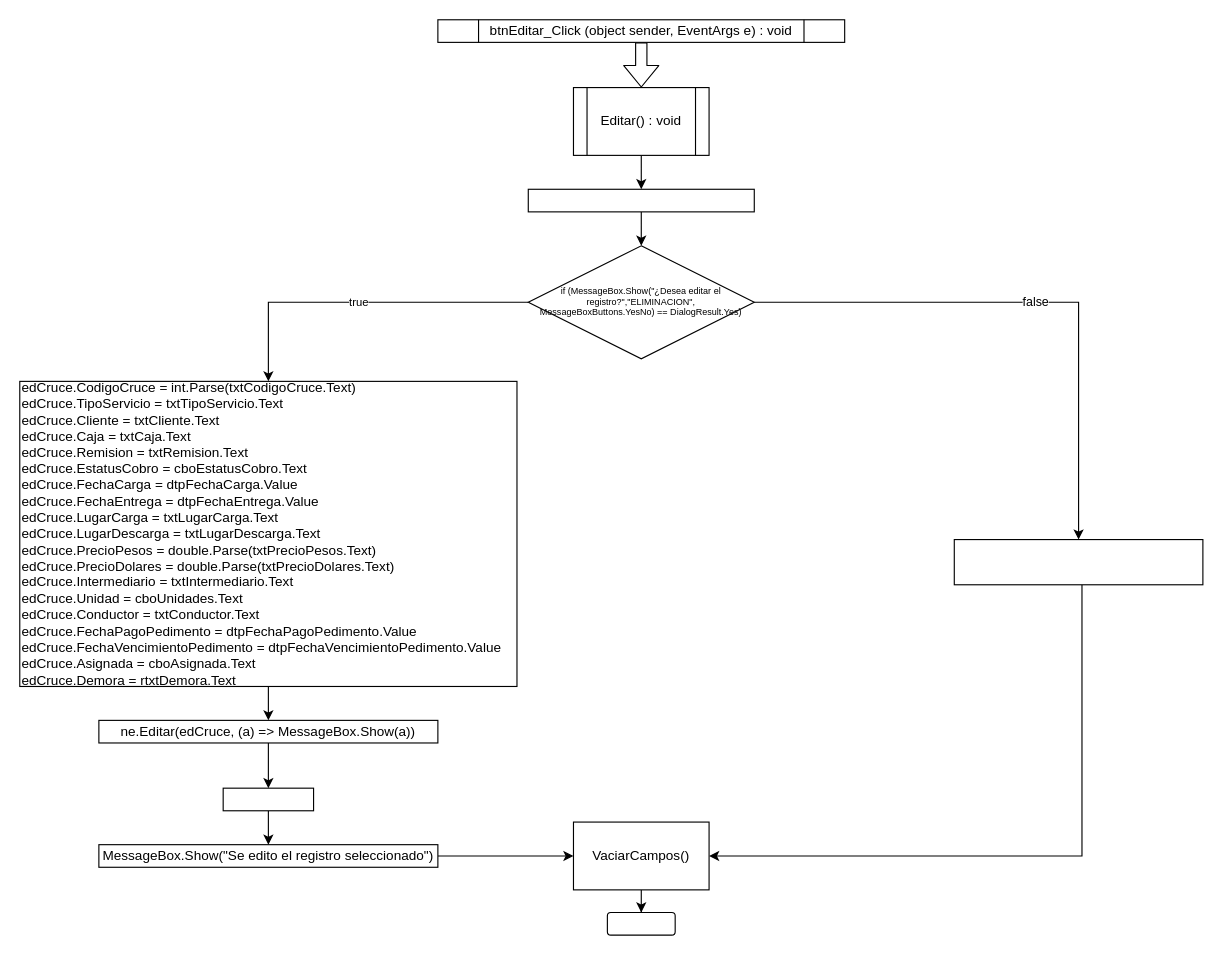
Image size: 1223x955. Some labels were removed from this diagram. The shapes that lost their labels are listed below. From the top down, each one's box as (x1, y1, x2, y2) in pixels, then its label:
(527, 188, 754, 212): Cruce edCruce = new Cruce()
(953, 538, 1203, 585): MessageBox.Show("No se edito ningun registro")
(222, 787, 314, 811): Recargar()
(606, 911, 675, 935): return
